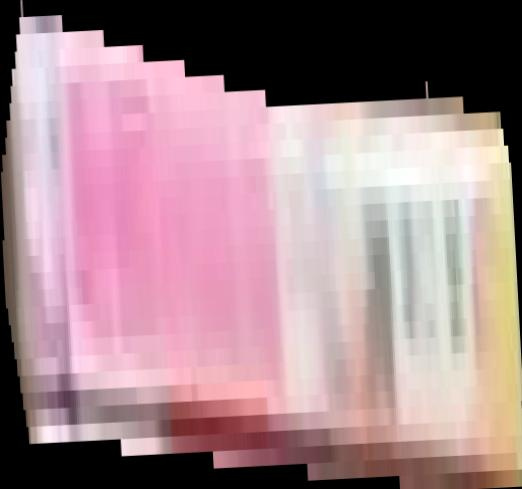flat: (1, 1, 522, 489)
